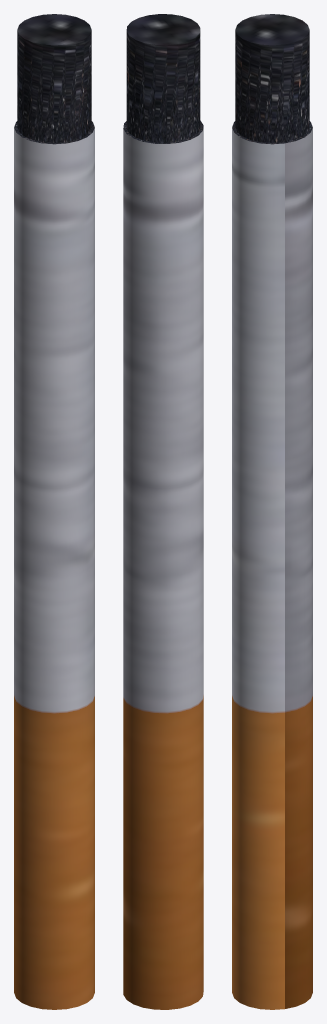
File: cigarret.fbx
3 views of the same model, side by side, from view 1: azimuth 90°, elevation 25°; view 2: azimuth 150°, elevation 25°; view 3: azimuth 270°, elevation 25° (orthographic).
Parts seen in each view (by area): view 1: pCylinder1; view 2: pCylinder1; view 3: pCylinder1.
Part boxes in pixels (x1,y1,x2,y2): pCylinder1: [14, 14, 94, 1009]; pCylinder1: [123, 14, 203, 1009]; pCylinder1: [232, 14, 312, 1009].
Bounding box in the file's own units: 2 × 26.34 × 2.
Materials: 1 (1 with a texture image).
